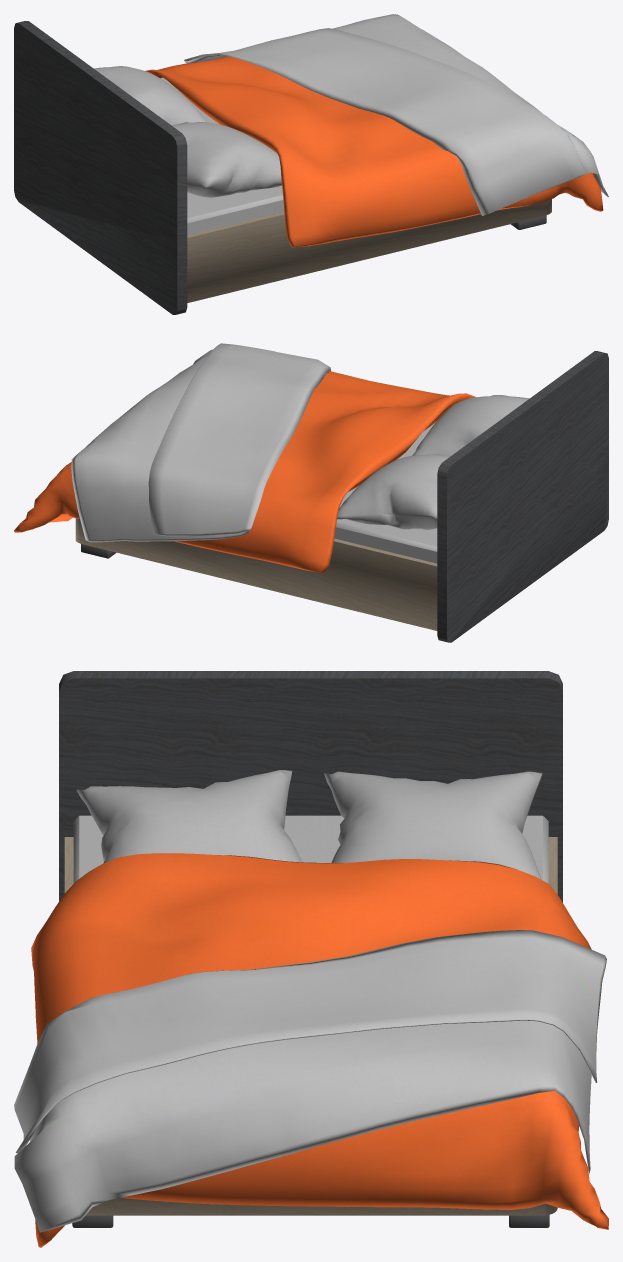
File: Bed.fbx
3 views of the same model, one above another, from view 1: azimuth 30°, elevation 25°; view 2: azimuth 150°, elevation 25°; view 3: azimuth 270°, elevation 25° (orthographic). The views are drawn at different scales.
Parts seen in each view (by area): view 1: Bed; view 2: Bed; view 3: Bed.
Boxes of the visible parts, x1,y1,x2,y2 form: Bed: (14, 14, 608, 314); Bed: (14, 343, 608, 642); Bed: (14, 671, 608, 1247).
Bounding box in the file's own units: 373 × 150 × 293.
1 material, 1 textured.
